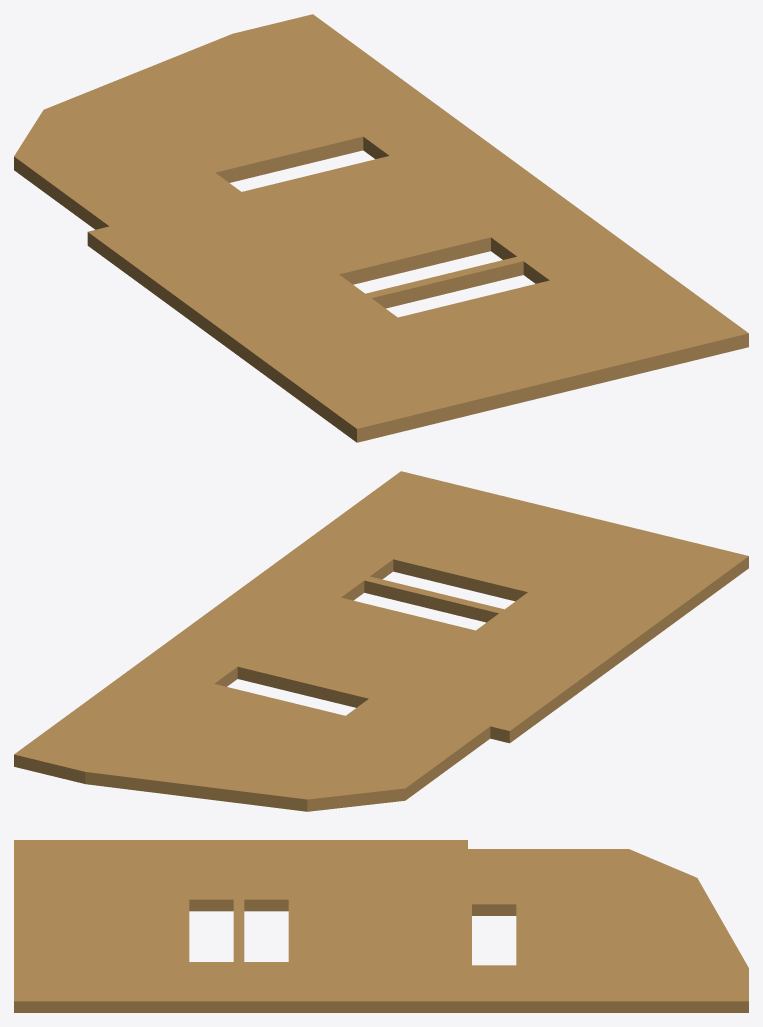
The picture shows the model from 3 angles, top to bottom: view 1: azimuth 30°, elevation 25°; view 2: azimuth 150°, elevation 25°; view 3: azimuth 270°, elevation 25°; orthographic projection. The views are drawn at different scales.
Parts seen in each view (by area): view 1: FF-A-FLOOR; view 2: FF-A-FLOOR; view 3: FF-A-FLOOR.
Part boxes in pixels (x1=…): FF-A-FLOOR: x1=14, y1=14, x2=748, y2=442; FF-A-FLOOR: x1=14, y1=471, x2=748, y2=811; FF-A-FLOOR: x1=14, y1=840, x2=748, y2=1012.
Size of the model in its own units: 8.9 by 0.3 by 17.15.
